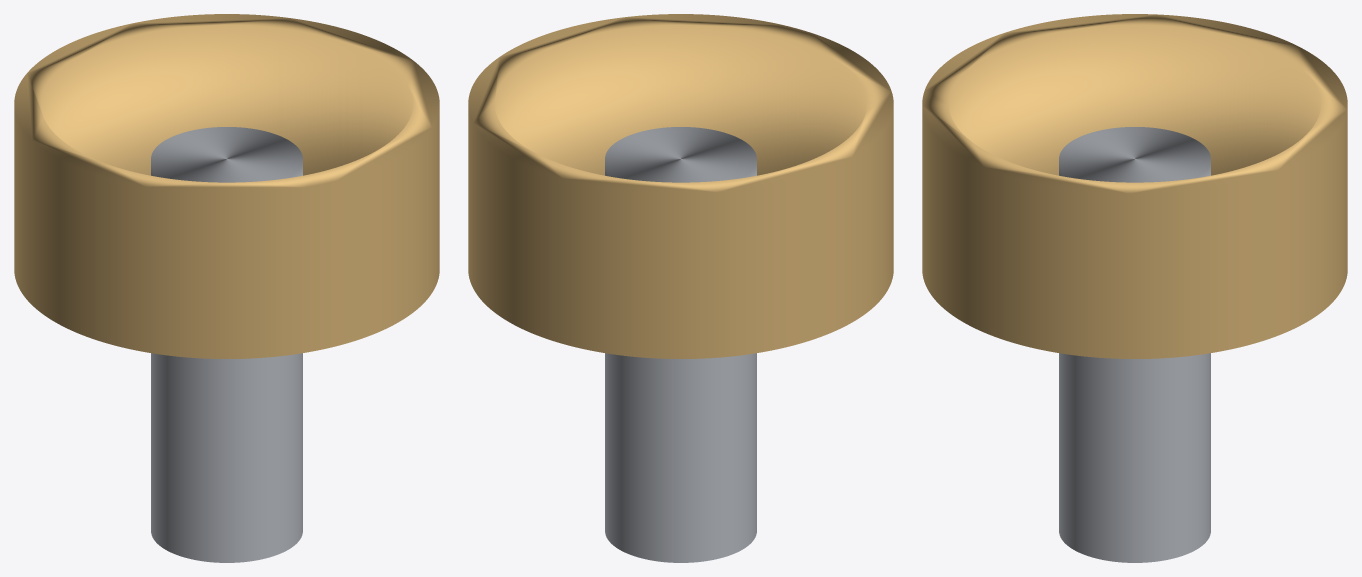
The model's file is snap-cap.glb.
The picture shows the model from 3 angles, left to right: view 1: azimuth 30°, elevation 25°; view 2: azimuth 150°, elevation 25°; view 3: azimuth 270°, elevation 25°; orthographic projection.
Visible parts, largest first — view 1: acc_cap, host_neck_u2; view 2: acc_cap, host_neck_u2; view 3: acc_cap, host_neck_u2.
Boxes of the visible parts, x1,y1,x2,y2 form: acc_cap: (14,14,439,358); host_neck_u2: (151,127,302,562); acc_cap: (468,14,893,358); host_neck_u2: (605,127,756,562); acc_cap: (922,14,1347,358); host_neck_u2: (1059,127,1210,562).
Size of the model in its own units: 28 by 31 by 28.
